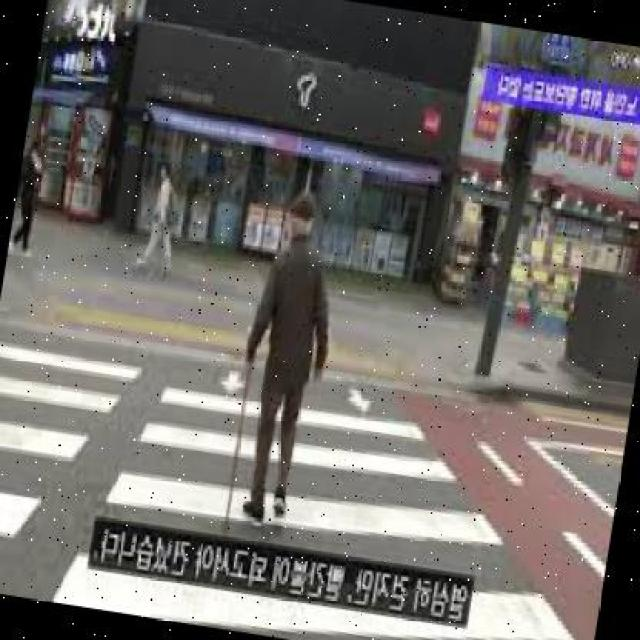obstacle: (217, 189, 351, 543), (134, 156, 189, 278)
